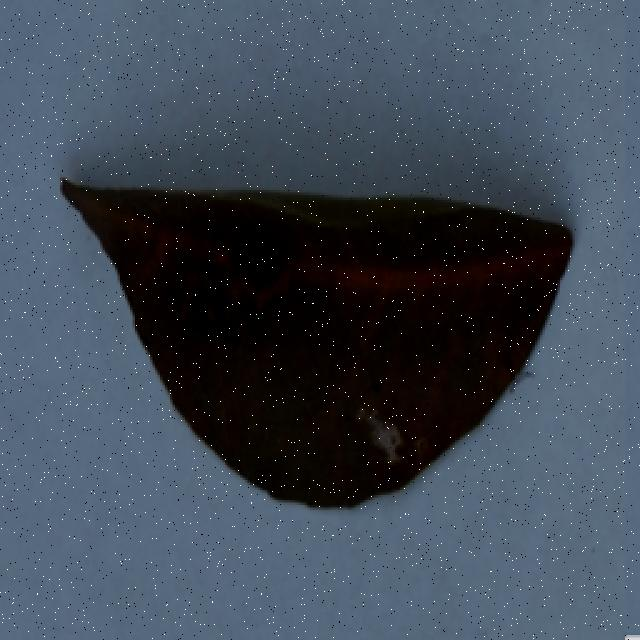greening: (45, 158, 584, 537)
